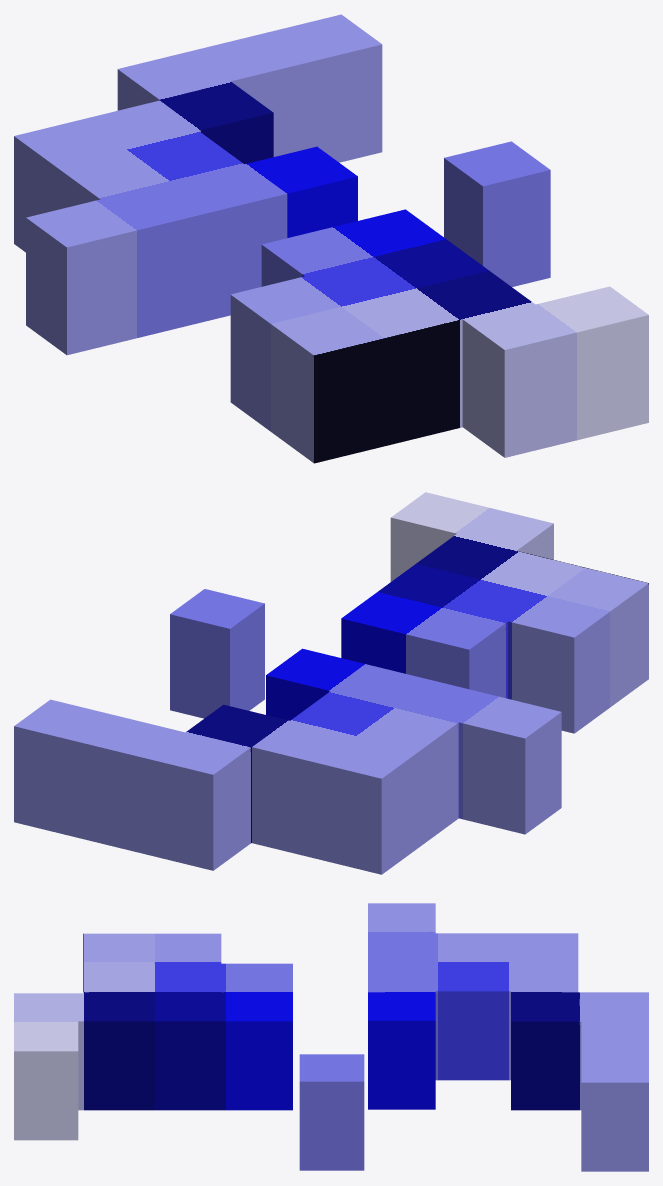
Rendered from garbage_415x08.gltf.
The picture shows the model from 3 angles, top to bottom: view 1: azimuth 30°, elevation 25°; view 2: azimuth 150°, elevation 25°; view 3: azimuth 270°, elevation 25°; orthographic projection. The views are drawn at different scales.
Parts seen in each view (by area): view 1: garbage_415x08; view 2: garbage_415x08; view 3: garbage_415x08.
Part boxes in pixels (x1,y1,x2,y2): garbage_415x08: [14, 14, 648, 463]; garbage_415x08: [14, 492, 648, 874]; garbage_415x08: [14, 903, 648, 1171].
Bounding box in the file's own units: 0.3716 × 0.0861 × 0.5569.
1 material, 1 textured.
